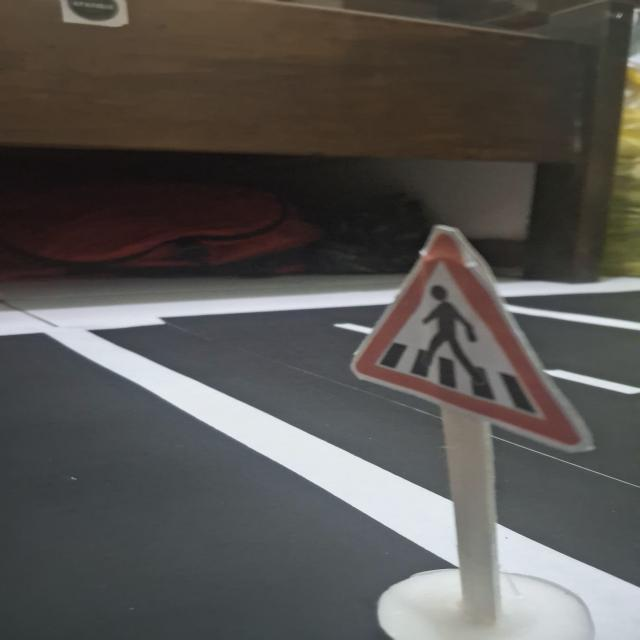Rambu Penyebrangan: (346, 223, 592, 451)
